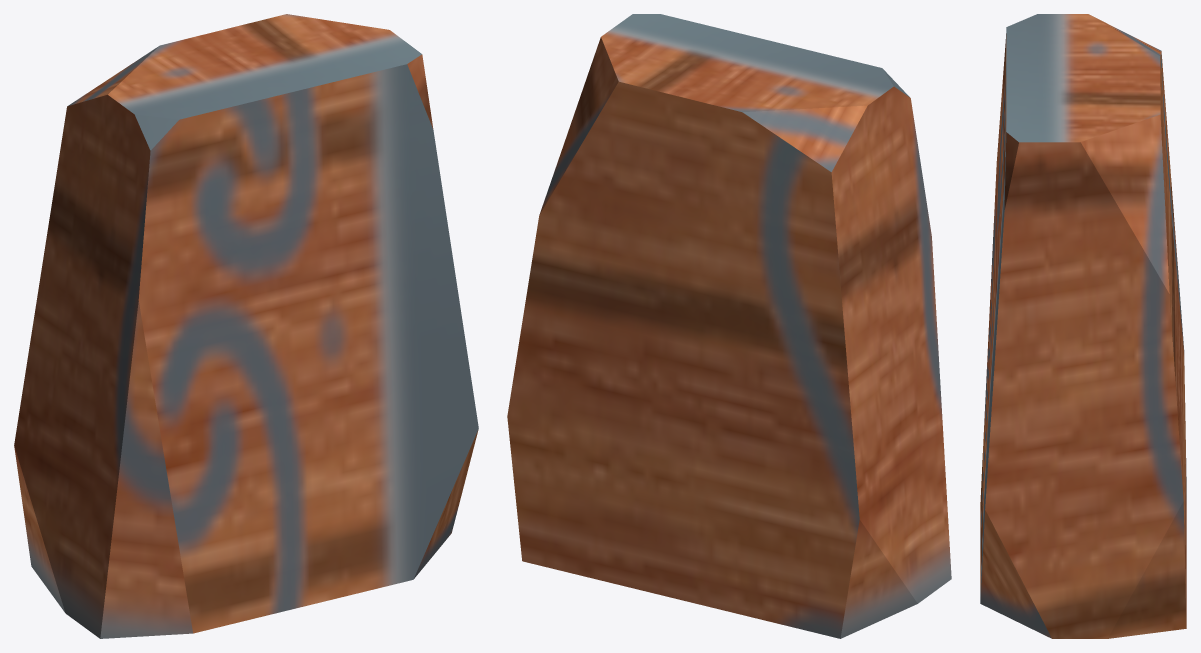
The model's file is Kamen_normal9.fbx.
The picture shows the model from 3 angles, left to right: view 1: azimuth 30°, elevation 25°; view 2: azimuth 150°, elevation 25°; view 3: azimuth 270°, elevation 25°; orthographic projection. The views are drawn at different scales.
Visible parts, largest first — view 1: Kamen_normal9; view 2: Kamen_normal9; view 3: Kamen_normal9.
Part boxes in pixels (box(x1,y1,x2,y2)): Kamen_normal9: box(14, 14, 478, 638); Kamen_normal9: box(507, 14, 951, 638); Kamen_normal9: box(980, 14, 1186, 638).
Bounding box in the file's own units: 15.19 × 19.68 × 7.73.
